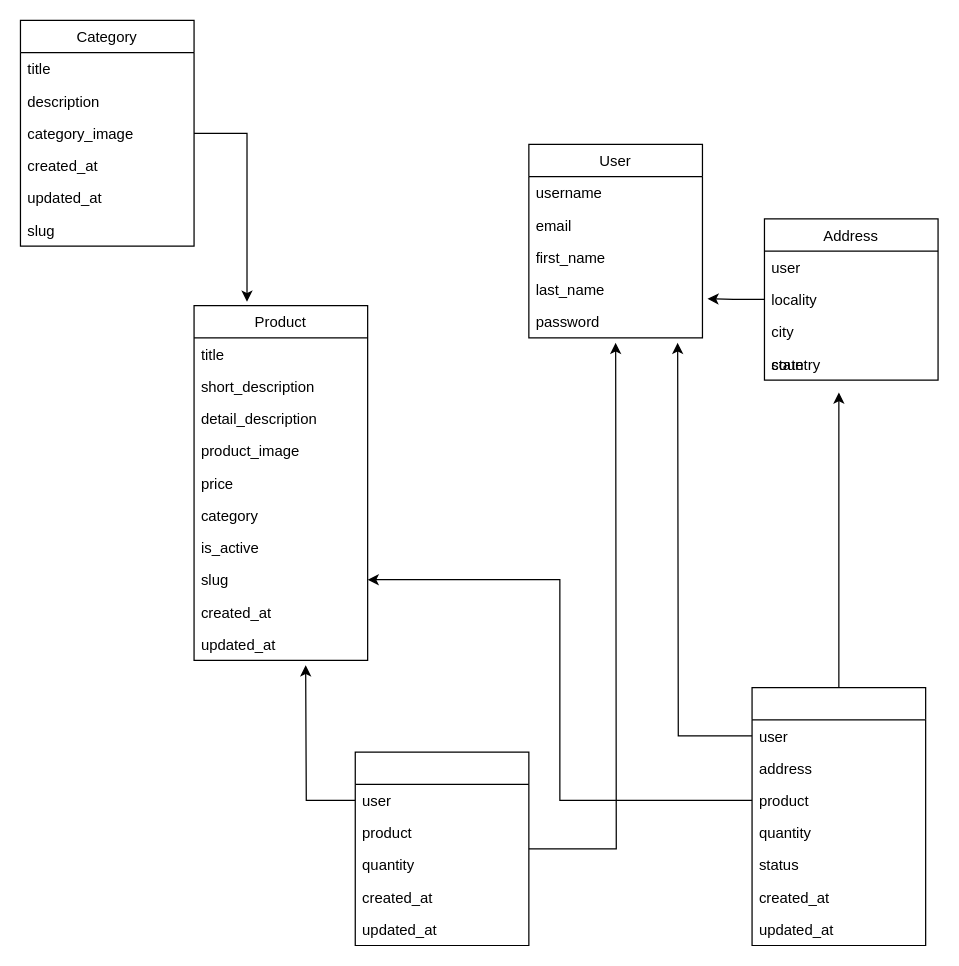
This 959x966 diagram has some shape labels left out. The shapes that lost their labels are listed below. From the top down, each one's box as (x1, y1, x2, y2) in pixels, then its label:
(751, 686, 926, 946): Order
(354, 751, 529, 946): Cart
